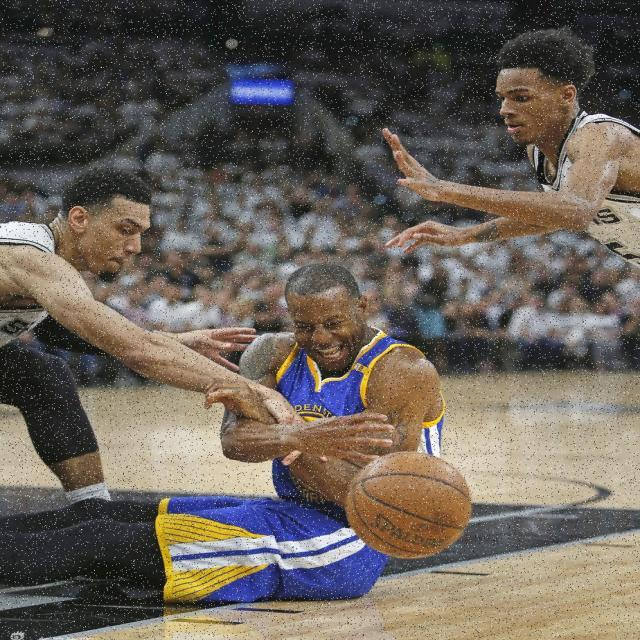fall: (12, 288, 444, 588)
